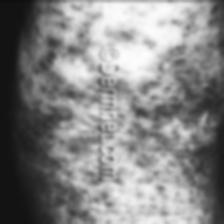Non-Cancerous Skin Condition: (134, 0, 219, 224), (28, 96, 92, 216), (55, 0, 121, 41)
